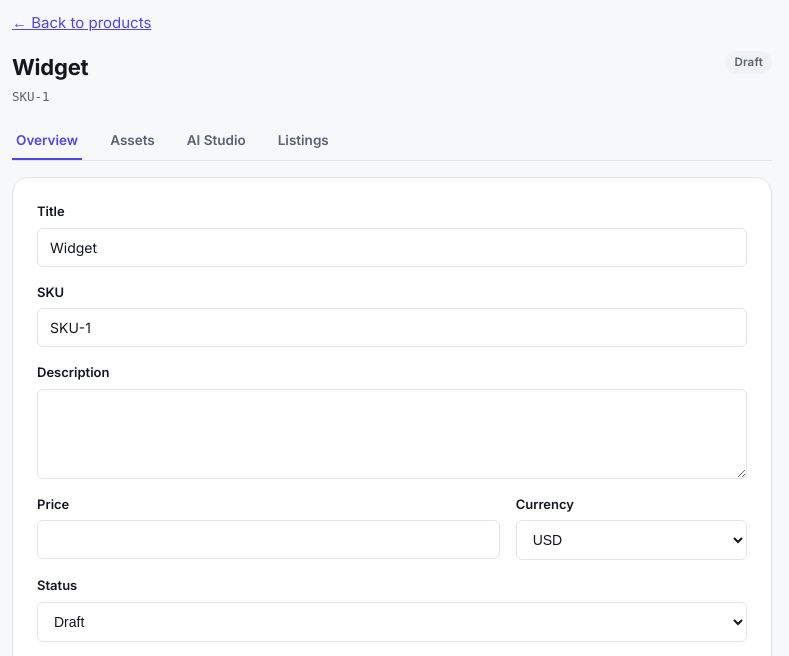
Scenario: ProductDetailPage › shows the AI Studio panel with a generate action
Expected: the heading "Widget" is shown, left=12, top=50, right=88, bottom=84
Click the button "AI Studio". click: (216, 141)
box: left=183, top=122, right=250, bottom=160
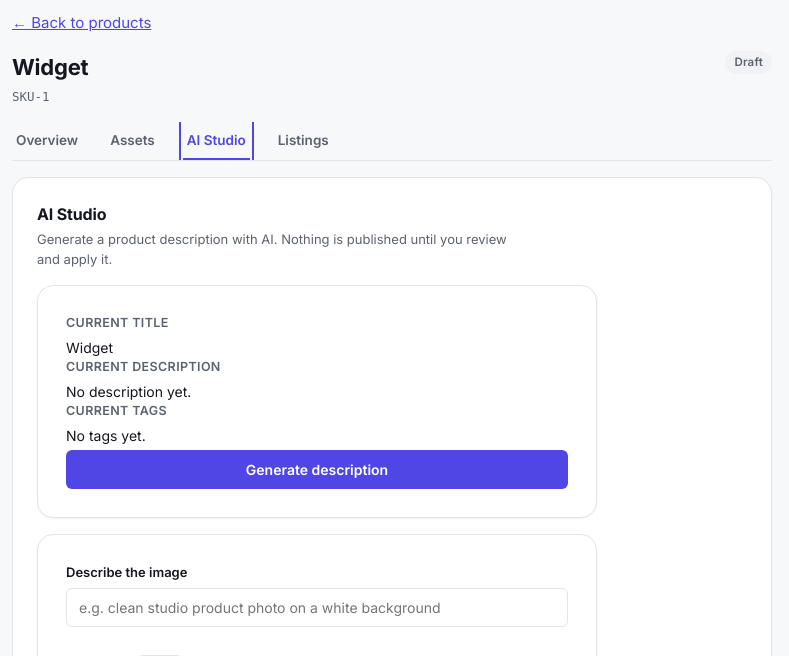
Expected: the heading "AI Studio" is shown, left=37, top=204, right=106, bottom=224
Expected: the button "Generate description" is shown, left=66, top=450, right=568, bottom=488
